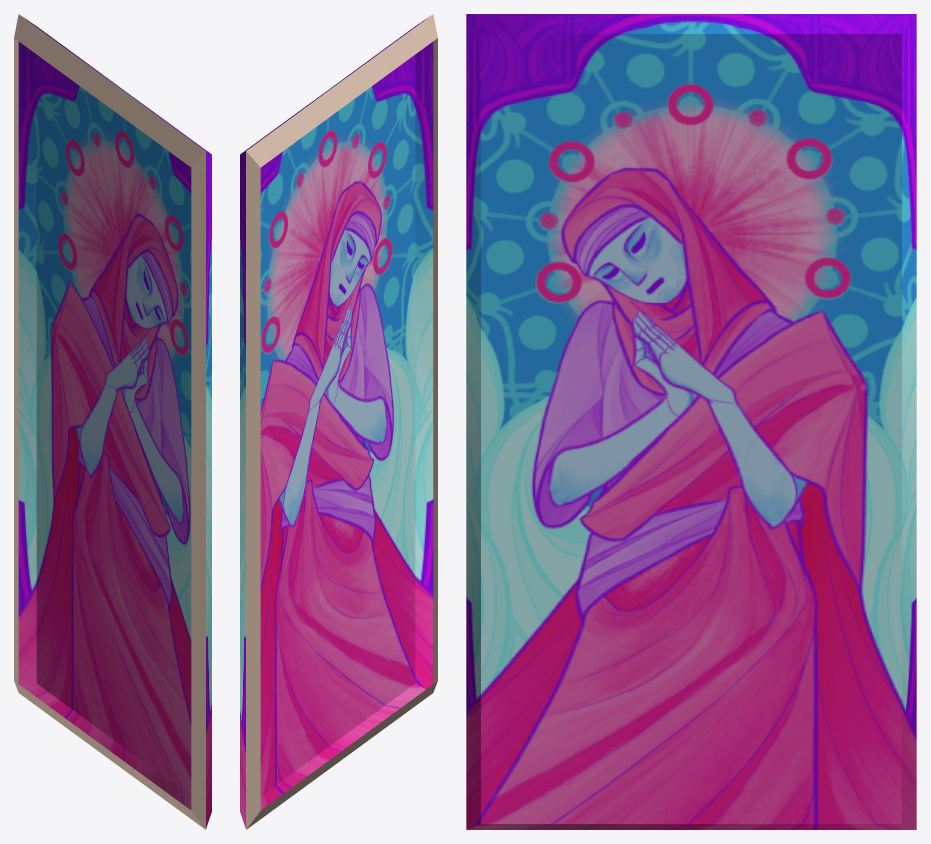
The model's file is neok_wall_sign_5x10_01_LOD0.fbx.
3 renders of one model, left to right at view 1: azimuth 30°, elevation 25°; view 2: azimuth 150°, elevation 25°; view 3: azimuth 270°, elevation 25°, orthographic. The views are drawn at different scales.
Parts seen in each view (by area): view 1: billboard03; view 2: billboard03; view 3: billboard03.
Part boxes in pixels (<box>): billboard03: <box>14,14,211,829</box>; billboard03: <box>240,14,437,829</box>; billboard03: <box>466,14,916,829</box>.
Size of the model in its own units: 1 by 30 by 15.
